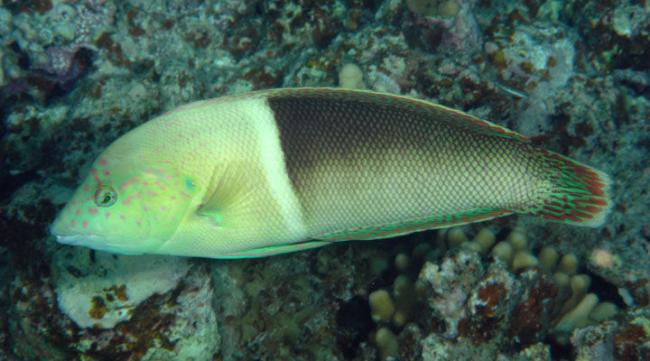fish: (50, 87, 613, 259)
